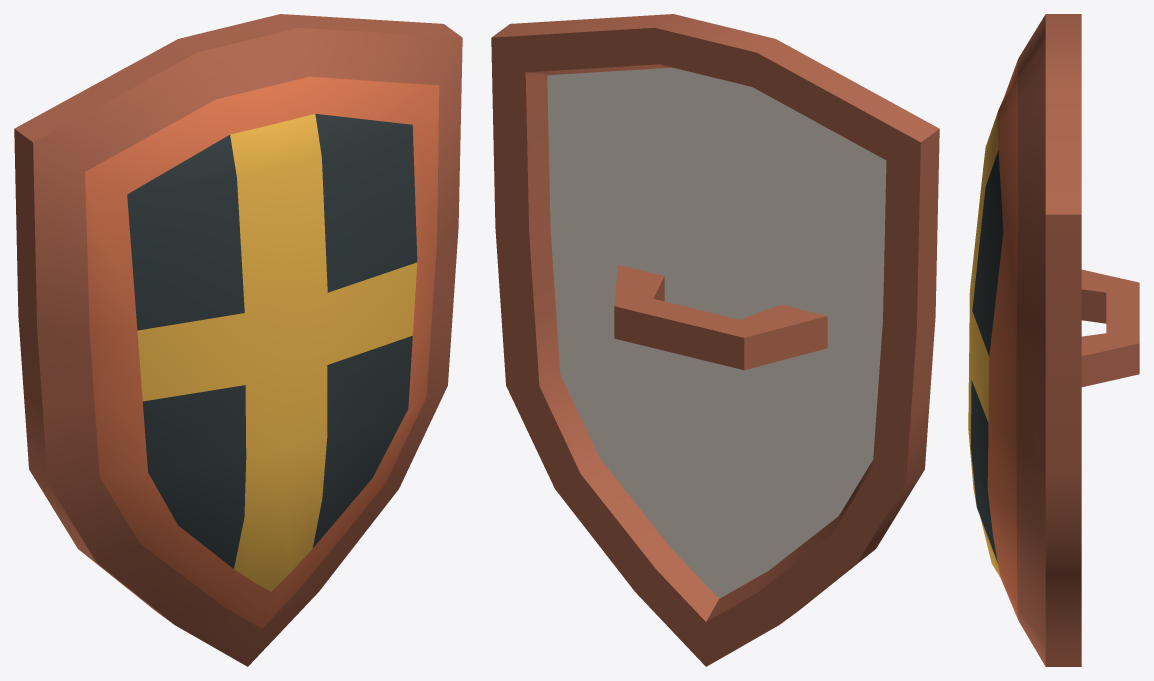
File: Shield_01.fbx
The picture shows the model from 3 angles, left to right: view 1: azimuth 30°, elevation 25°; view 2: azimuth 150°, elevation 25°; view 3: azimuth 270°, elevation 25°; orthographic projection. The views are drawn at different scales.
Parts seen in each view (by area): view 1: Shield_01; view 2: Shield_01; view 3: Shield_01.
Boxes of the visible parts, x1,y1,x2,y2 form: Shield_01: (14, 14, 462, 666); Shield_01: (491, 14, 939, 666); Shield_01: (968, 14, 1139, 666).
Size of the model in its own units: 0.3712 by 0.5174 by 0.1339.
